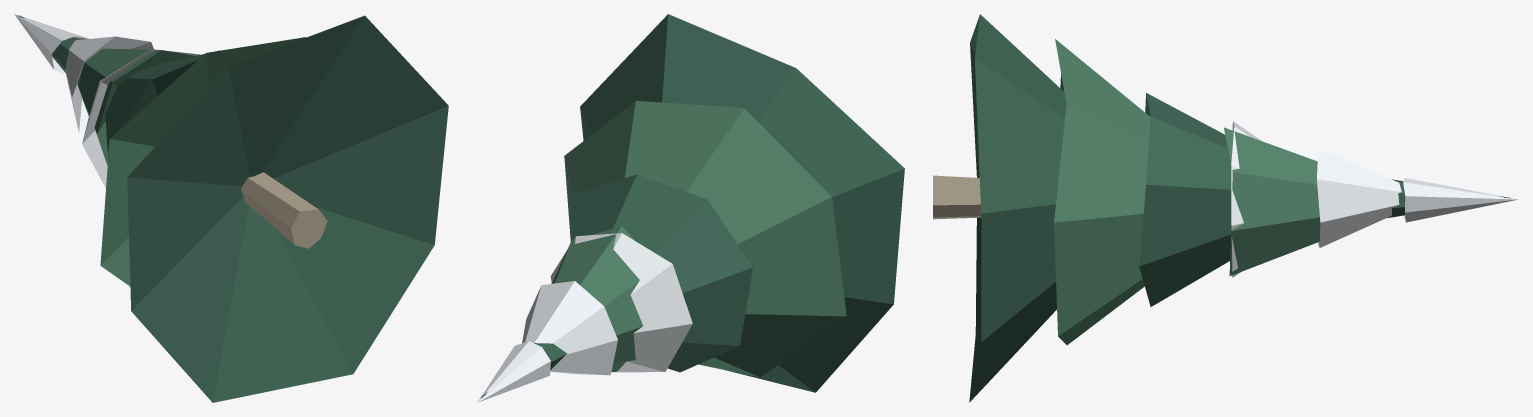
File: TreeConiferC3.fbx
The picture shows the model from 3 angles, left to right: view 1: azimuth 30°, elevation 25°; view 2: azimuth 150°, elevation 25°; view 3: azimuth 270°, elevation 25°; orthographic projection. The views are drawn at different scales.
Visible parts, largest first — view 1: M_Tree_Pine_Dark, M_Tree_Pine_Mid, M_Tree_Snow, M_Tree_PaleWood; view 2: M_Tree_Pine_Dark, M_Tree_Pine_Mid, M_Tree_Snow; view 3: M_Tree_Pine_Dark, M_Tree_Pine_Mid, M_Tree_Snow, M_Tree_PaleWood.
Part boxes in pixels (left/top/right/bottom): M_Tree_Pine_Dark: left=18, top=15, right=448, bottom=402; M_Tree_Pine_Mid: left=77, top=37, right=305, bottom=286; M_Tree_Snow: left=14, top=14, right=199, bottom=187; M_Tree_PaleWood: left=241, top=172, right=327, bottom=248; M_Tree_Pine_Dark: left=480, top=14, right=904, bottom=398; M_Tree_Pine_Mid: left=551, top=101, right=846, bottom=377; M_Tree_Snow: left=477, top=233, right=692, bottom=402; M_Tree_Pine_Dark: left=969, top=14, right=1510, bottom=402; M_Tree_Pine_Mid: left=1054, top=39, right=1320, bottom=345; M_Tree_Snow: left=1231, top=121, right=1518, bottom=277; M_Tree_PaleWood: left=933, top=175, right=981, bottom=219.
Size of the model in its own units: 2093 by 2159 by 3261.
